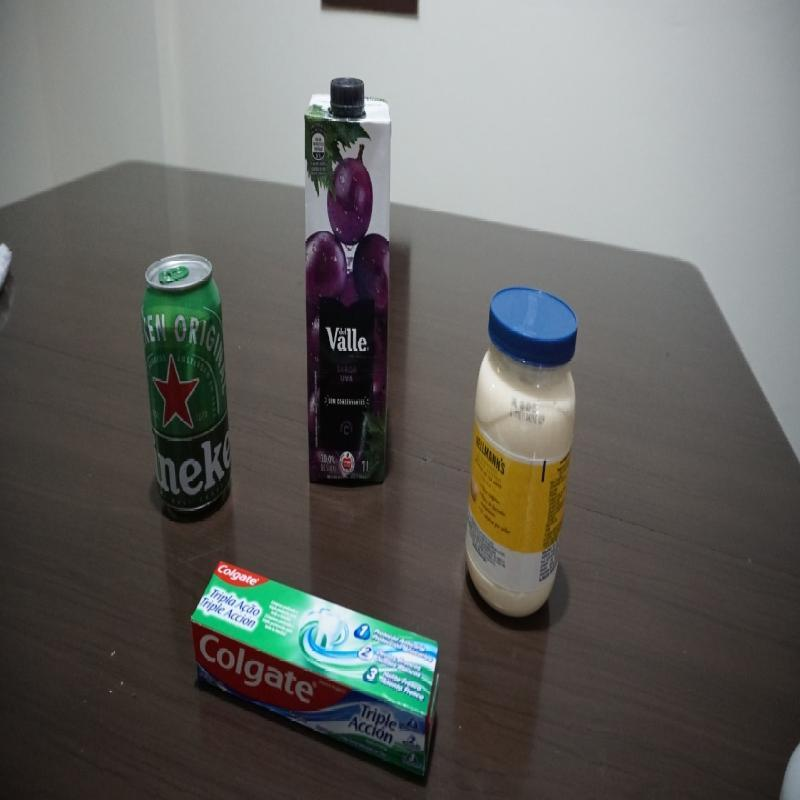Beer can: (142, 249, 237, 521)
Mayonnaise: (465, 281, 579, 622)
Toothpaste: (193, 563, 440, 781)
